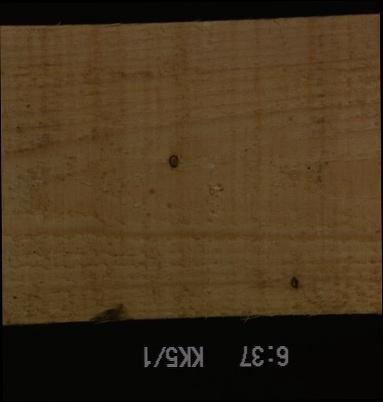dry_knot: (167, 153, 180, 168), (289, 276, 300, 290)
